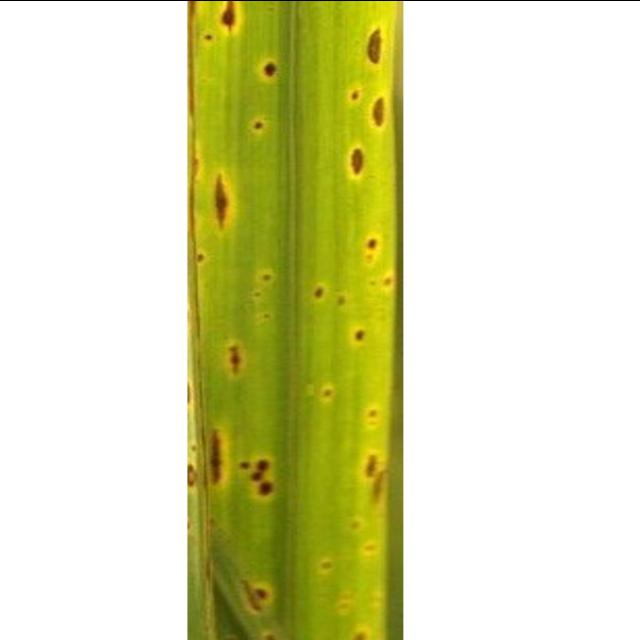Brown spot: (190, 0, 404, 640)
